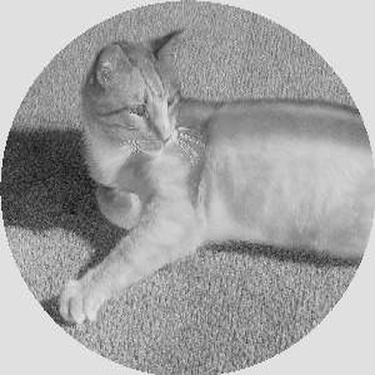cat: (61, 28, 373, 322)
